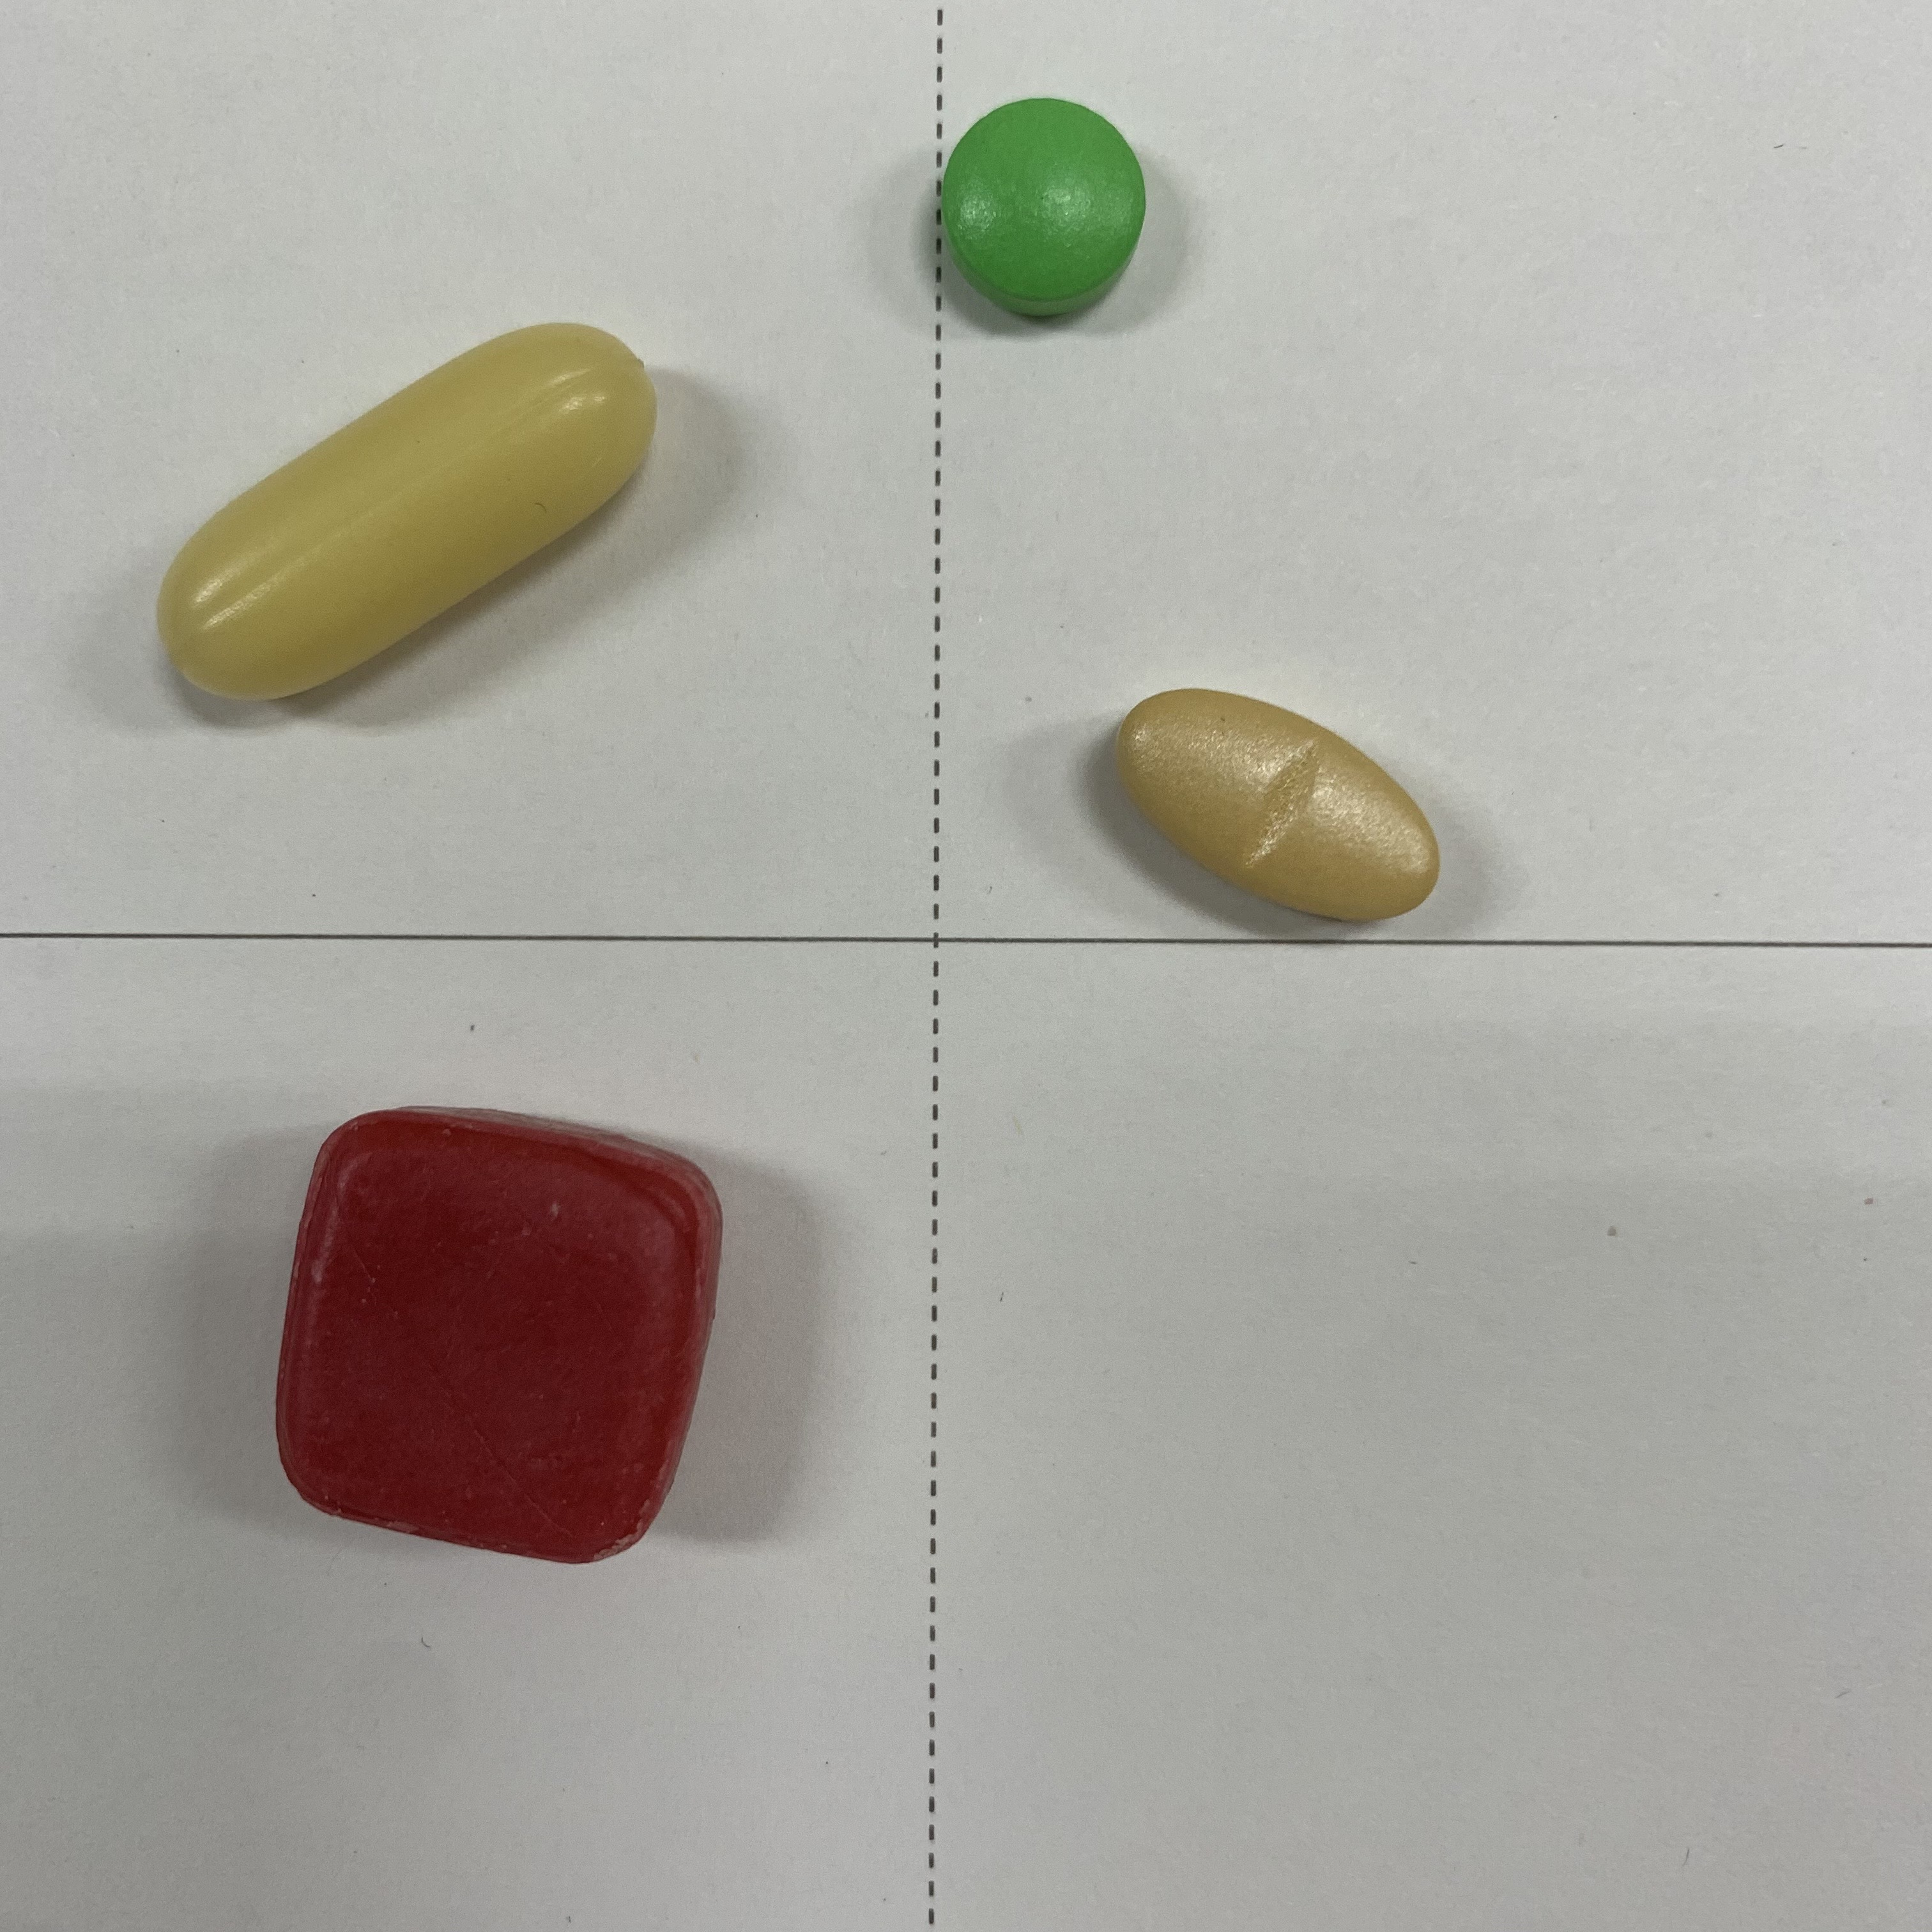cir_drug: (925, 85, 1157, 340)
oval_drug: (1085, 681, 1474, 936)
rec_drug: (147, 310, 692, 718)
sqr_drug: (260, 1088, 731, 1585)
